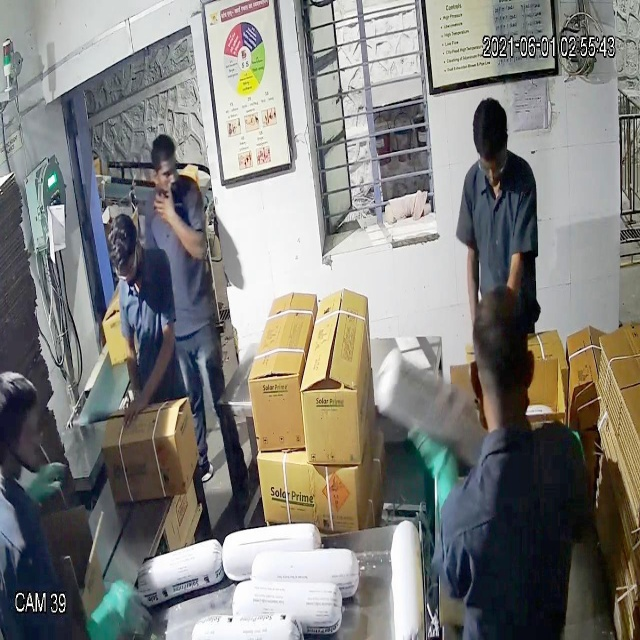Gafas: (475, 141, 511, 180), (110, 252, 144, 287)
